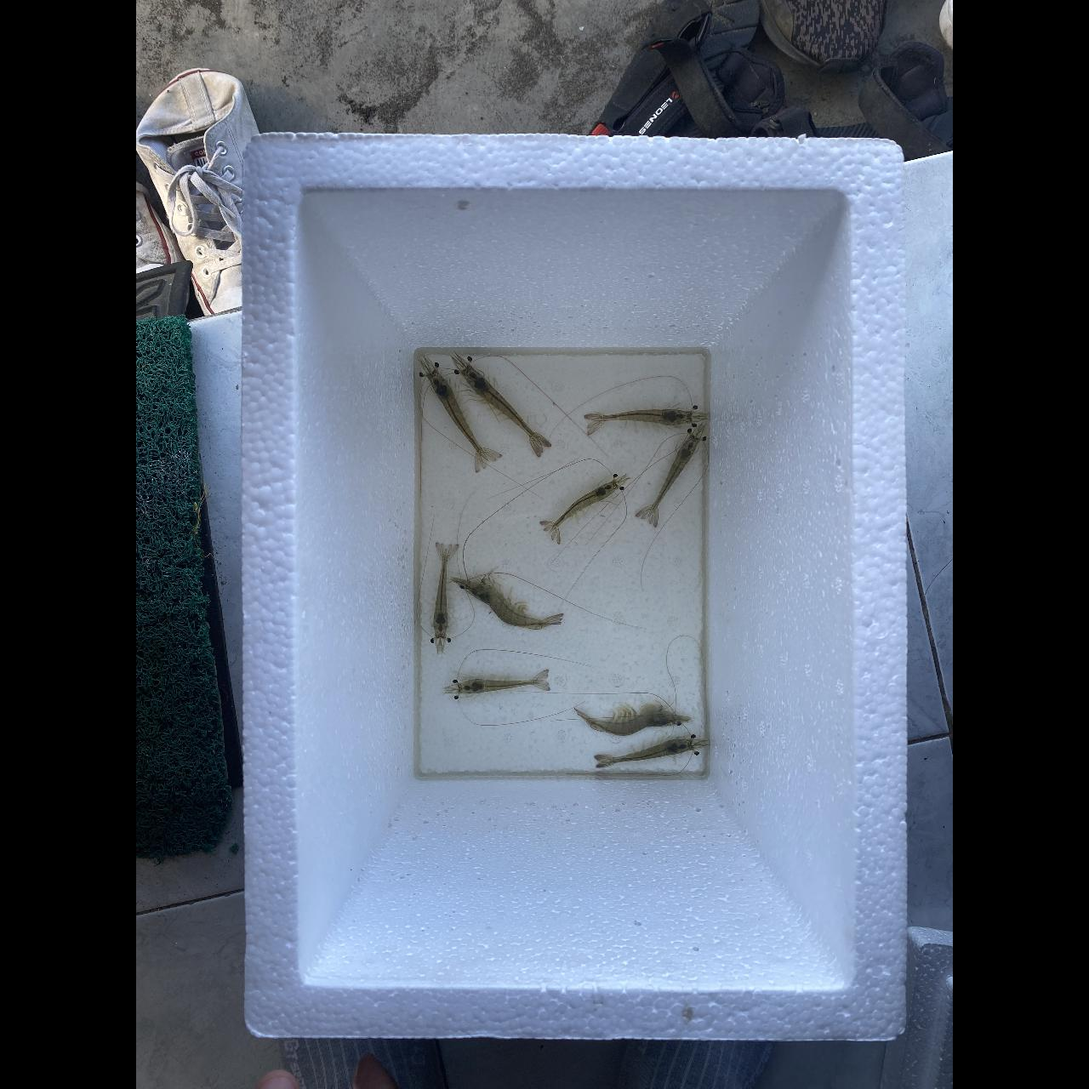side_shrimp: (467, 583, 564, 630), (575, 708, 676, 736)
top_shrimp: (461, 365, 541, 445), (428, 372, 487, 460), (648, 437, 699, 518), (548, 482, 616, 533), (601, 739, 691, 764), (590, 409, 693, 426), (459, 678, 542, 694), (434, 550, 448, 638)
